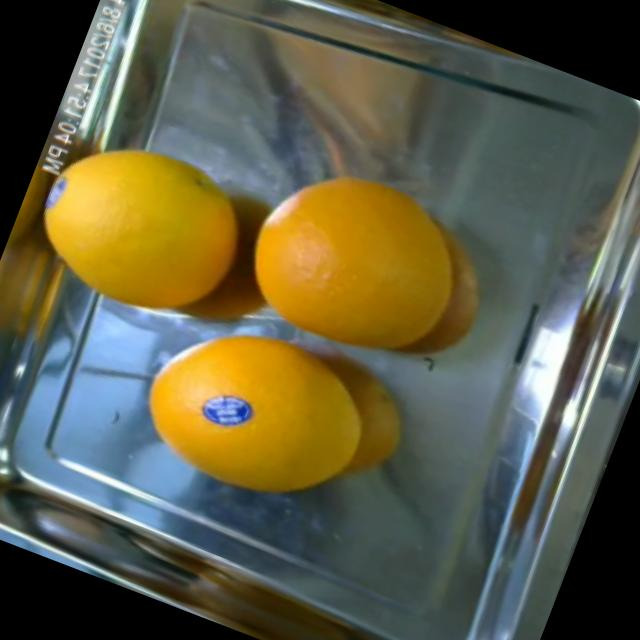Fruit: (2, 99, 270, 348), (206, 313, 436, 537), (190, 380, 267, 443)
